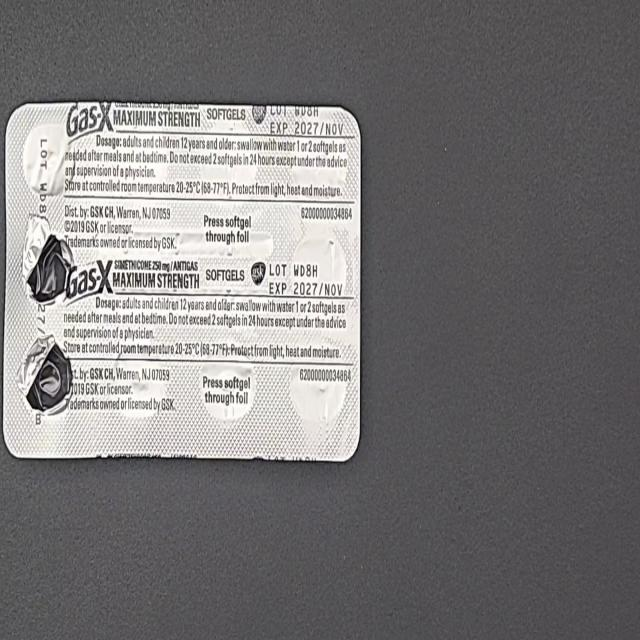defect: (20, 212, 75, 312), (14, 330, 74, 418)
